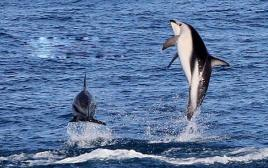fish: (162, 17, 230, 121), (65, 74, 111, 128)
